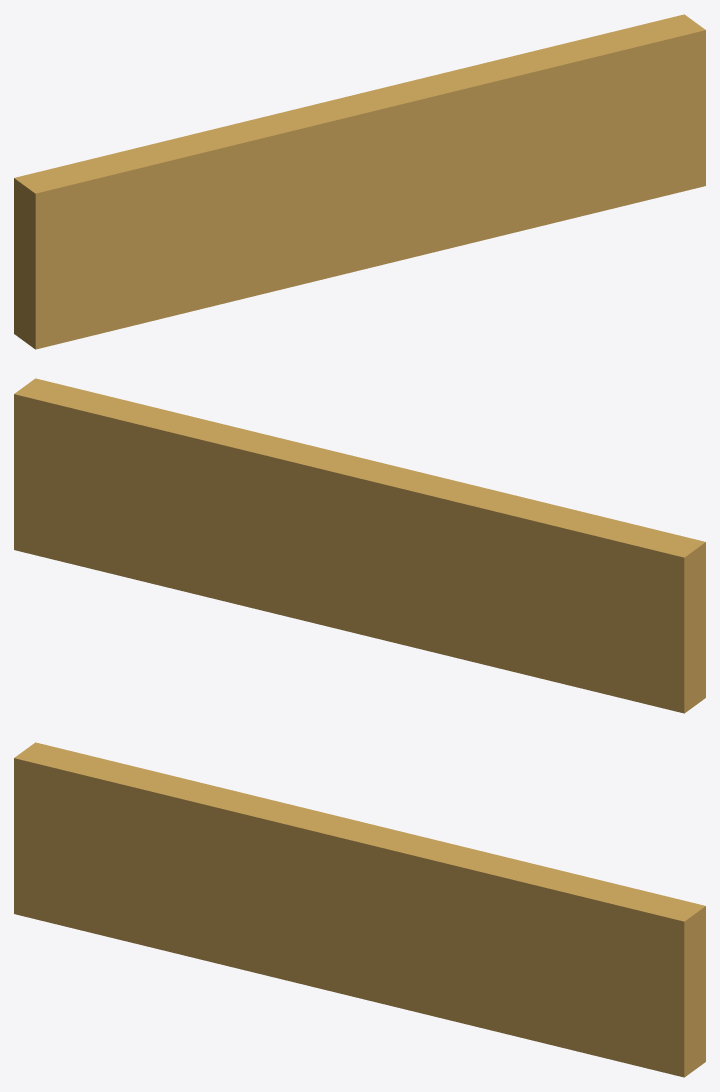
The model's file is pared1a.obj.
3 renders of one model, top to bottom at view 1: azimuth 30°, elevation 25°; view 2: azimuth 150°, elevation 25°; view 3: azimuth 330°, elevation 25°, orthographic.
Parts seen in each view (by area): view 1: Wall.070; view 2: Wall.070; view 3: Wall.070.
Part boxes in pixels (<box>): Wall.070: <box>14,14,705,349</box>; Wall.070: <box>14,378,705,713</box>; Wall.070: <box>14,742,705,1077</box>.
Size of the model in its own units: 18 by 4 by 1.
5 materials, 5 textured.
